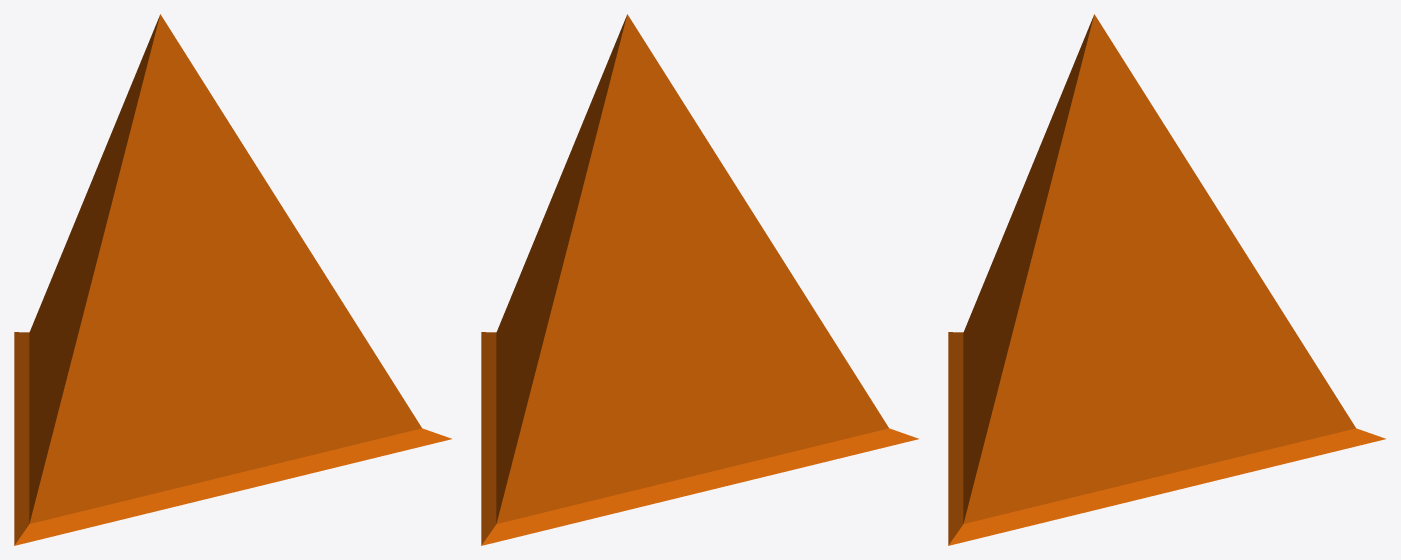
3 views of the same model, side by side, from view 1: azimuth 30°, elevation 25°; view 2: azimuth 150°, elevation 25°; view 3: azimuth 270°, elevation 25° (orthographic).
Visible parts, largest first — view 1: Cube; view 2: Cube; view 3: Cube.
Part boxes in pixels (x1=…): Cube: x1=14, y1=14, x2=451, y2=545; Cube: x1=481, y1=14, x2=918, y2=545; Cube: x1=948, y1=14, x2=1385, y2=545.
Bounding box in the file's own units: 0.7663 × 0.6637 × 0.7098.
